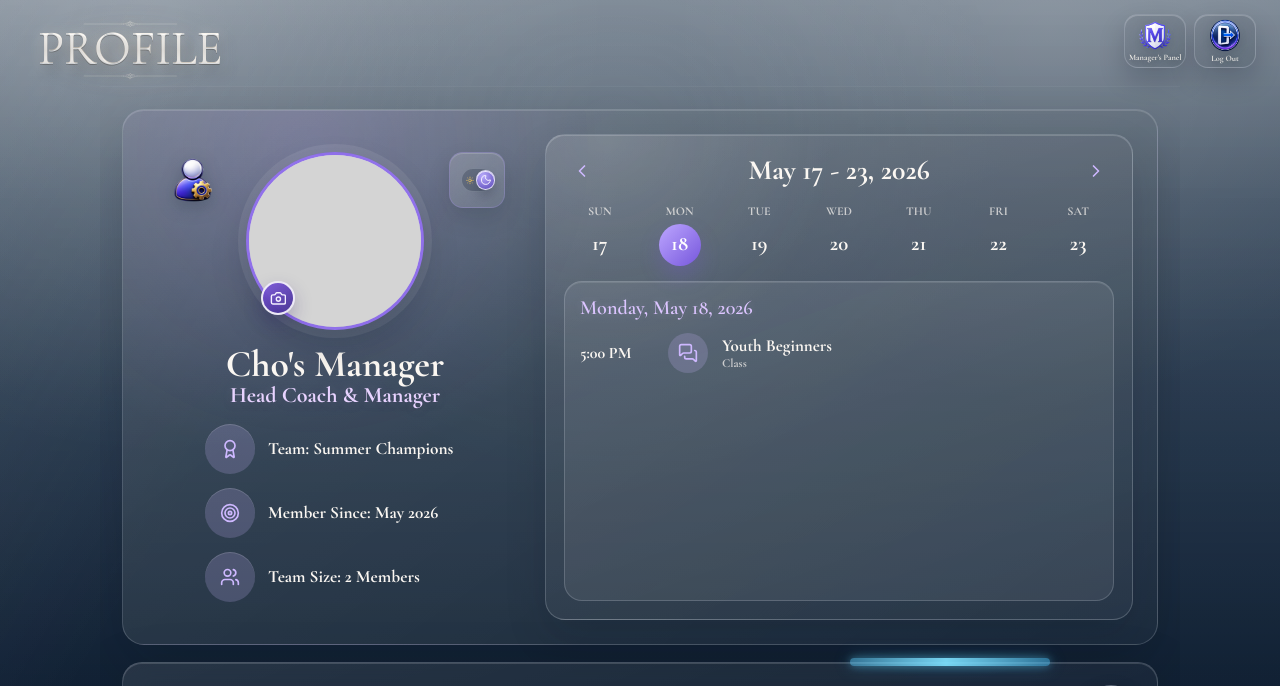
post-login operations app › keeps the Home weekly agenda rows compact on busy recurring class days
This screenshot has width=1280, height=686.
Click the button with aria-label "Select Tuesday, May 19, 2026": click(759, 235) left=723, top=203, right=795, bottom=267
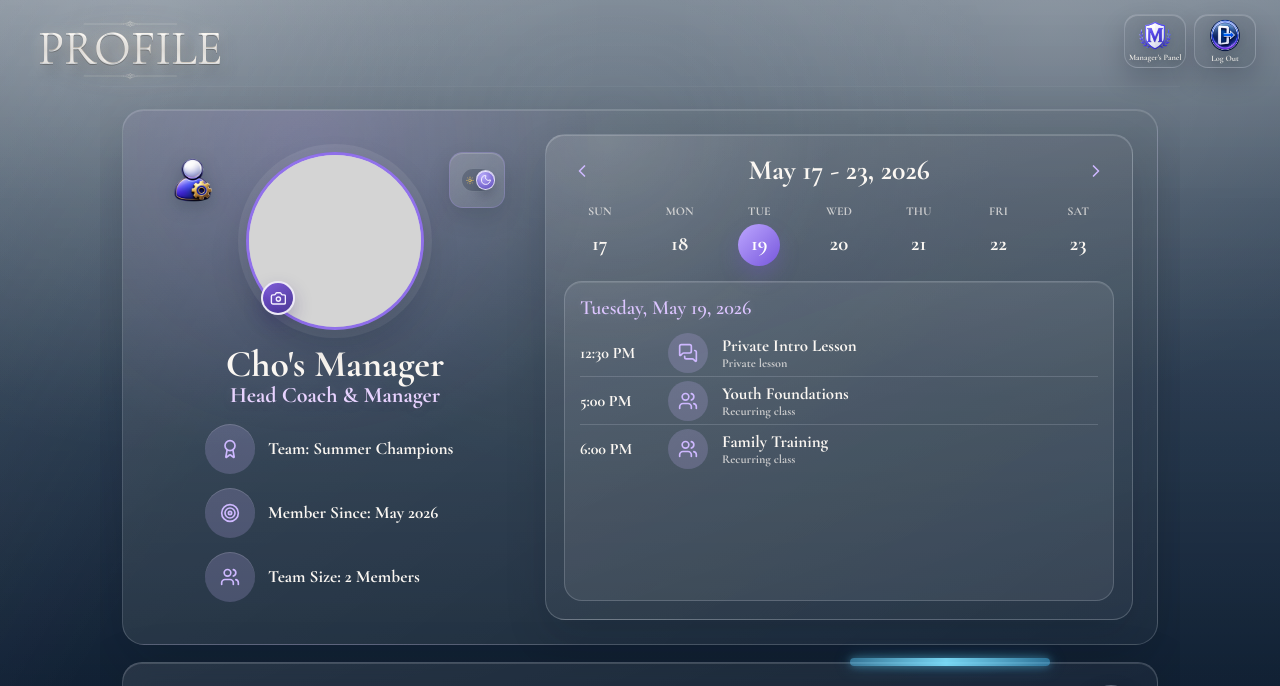
Check: the heading "Tuesday, May 19, 2026" is shown, box left=580, top=295, right=751, bottom=320
Check: the text "Private Intro Lesson" is shown, box left=722, top=335, right=857, bottom=356
Check: the text "Youth Foundations" is shown, box left=722, top=383, right=849, bottom=404
